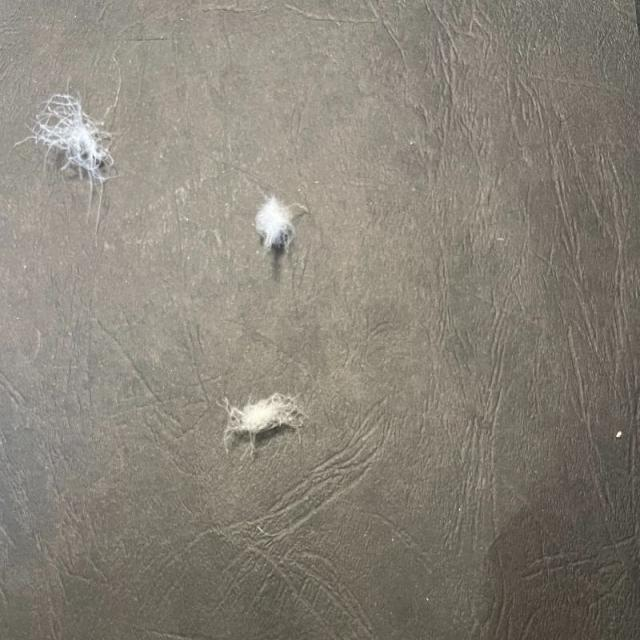feather: (26, 87, 116, 194), (217, 384, 307, 451), (253, 186, 296, 258)
